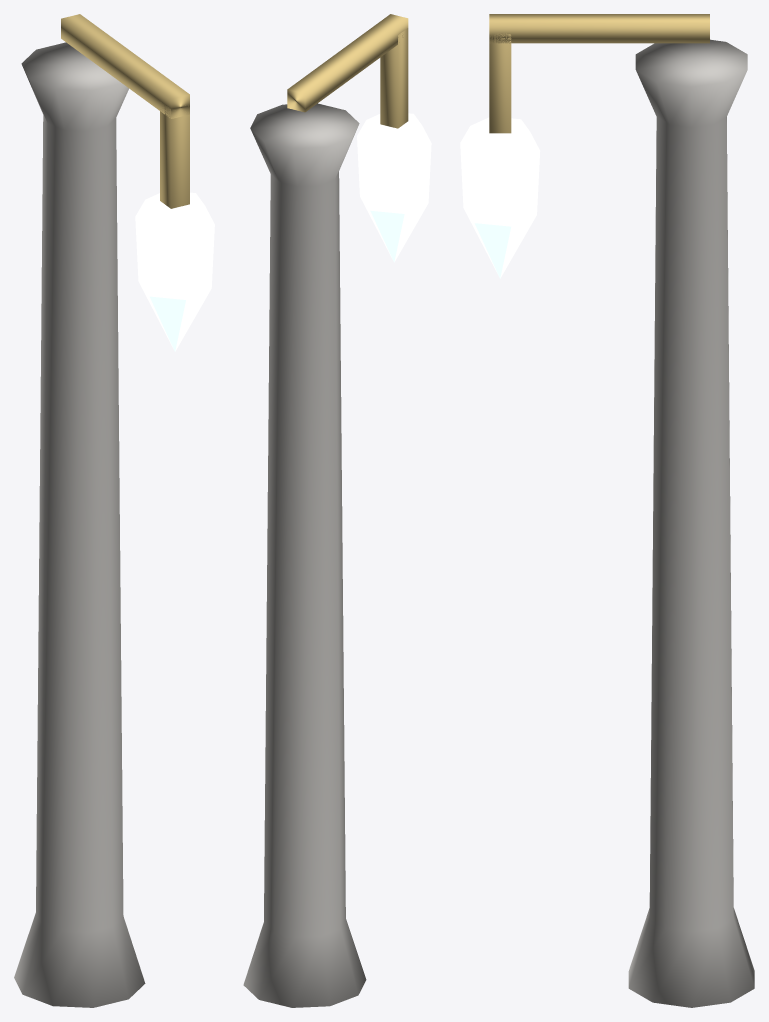
File: lamp.glb
3 views of the same model, side by side, from view 1: azimuth 30°, elevation 25°; view 2: azimuth 150°, elevation 25°; view 3: azimuth 270°, elevation 25° (orthographic). The views are drawn at different scales.
Parts seen in each view (by area): view 1: Lamp; view 2: Lamp; view 3: Lamp.
Boxes of the visible parts, bbox=[...] form: Lamp: bbox=[14, 14, 214, 1007]; Lamp: bbox=[243, 14, 431, 1007]; Lamp: bbox=[460, 14, 754, 1007].
Size of the model in its own units: 0.36 by 2.88 by 0.7998.
